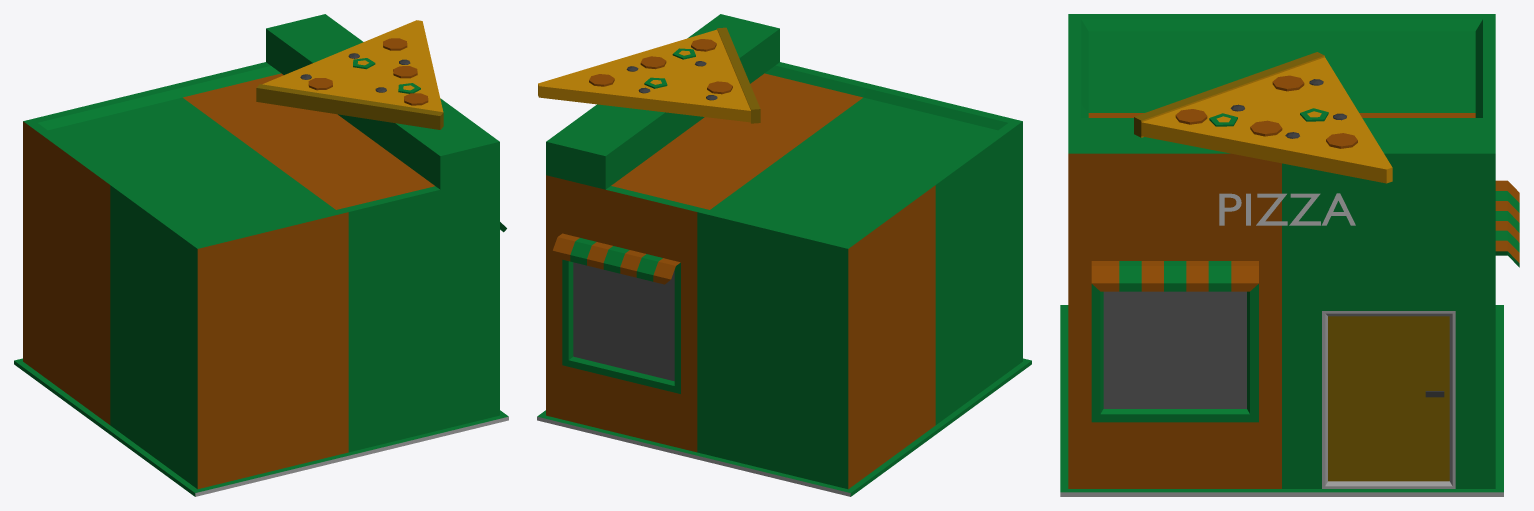
The picture shows the model from 3 angles, left to right: view 1: azimuth 30°, elevation 25°; view 2: azimuth 150°, elevation 25°; view 3: azimuth 270°, elevation 25°; orthographic projection. The views are drawn at different scales.
Parts seen in each view (by area): view 1: Cube.007_Material.030_0; view 2: Cube.007_Material.030_0; view 3: Cube.007_Material.030_0.
Part boxes in pixels (<box>): Cube.007_Material.030_0: <box>14,14,508,496</box>; Cube.007_Material.030_0: <box>537,14,1031,496</box>; Cube.007_Material.030_0: <box>1060,14,1519,496</box>.
Bounding box in the file's own units: 2.22 × 1.72 × 2.
1 material, 1 textured.
